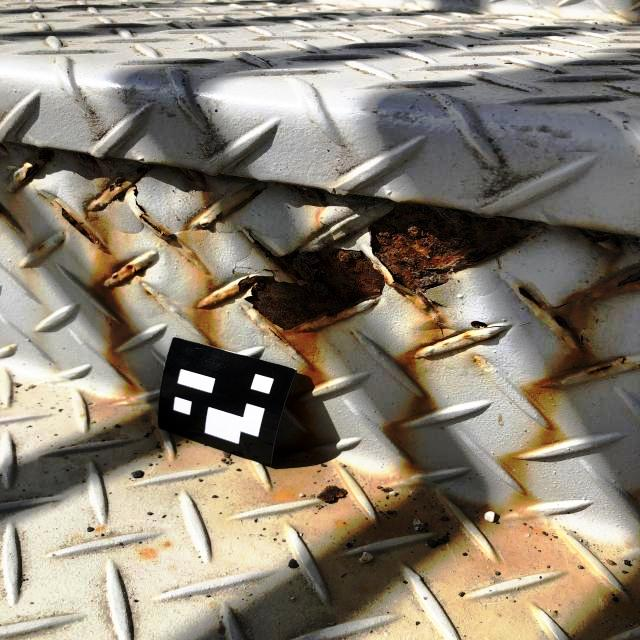Corrosion: (228, 203, 551, 346), (107, 166, 173, 238), (58, 203, 113, 255), (551, 314, 583, 348), (226, 188, 264, 212), (110, 264, 150, 286), (517, 285, 546, 313), (608, 268, 640, 289), (17, 161, 42, 185), (468, 320, 508, 332), (268, 328, 290, 346), (585, 361, 611, 375), (39, 150, 59, 162)
